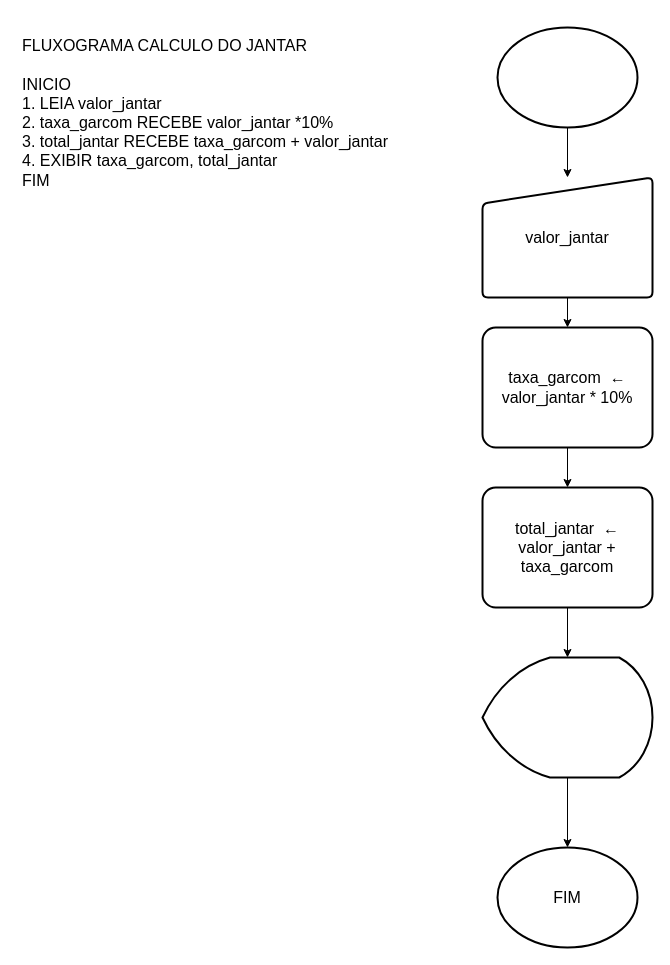
Some shapes in this 670 by 965 pixel diagram are drawn without their labels. Each missing label, with the box of its shape:
INICIO: (496, 26, 638, 128)
taxa_garcom total_jantar: (481, 656, 653, 778)
